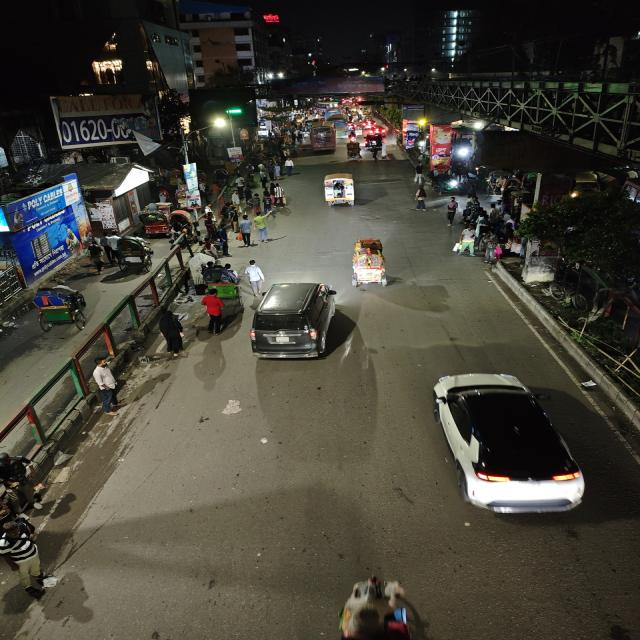bus: (308, 125, 337, 153)
car: (414, 364, 597, 524), (245, 276, 346, 364)
human_hauler: (317, 171, 361, 209)
motorcycle: (322, 564, 442, 640), (347, 128, 359, 141)
pedestrian: (156, 310, 190, 360), (198, 288, 227, 334), (82, 240, 108, 274), (243, 258, 266, 296), (212, 224, 233, 256), (481, 240, 503, 270), (236, 213, 254, 248), (442, 196, 460, 226), (254, 212, 271, 243), (220, 201, 238, 229), (411, 185, 430, 211), (456, 233, 476, 257), (282, 156, 297, 178)
rickshaw: (30, 280, 90, 334), (343, 236, 401, 291), (136, 211, 171, 239), (344, 142, 364, 162)
